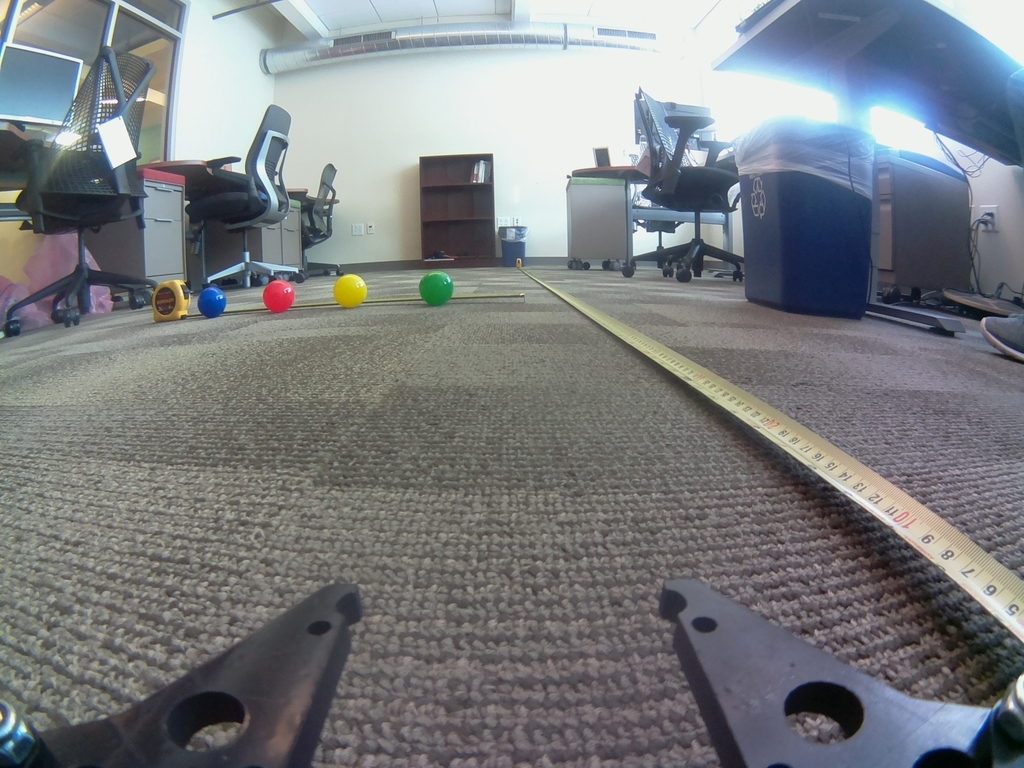ball: (262, 280, 294, 315)
